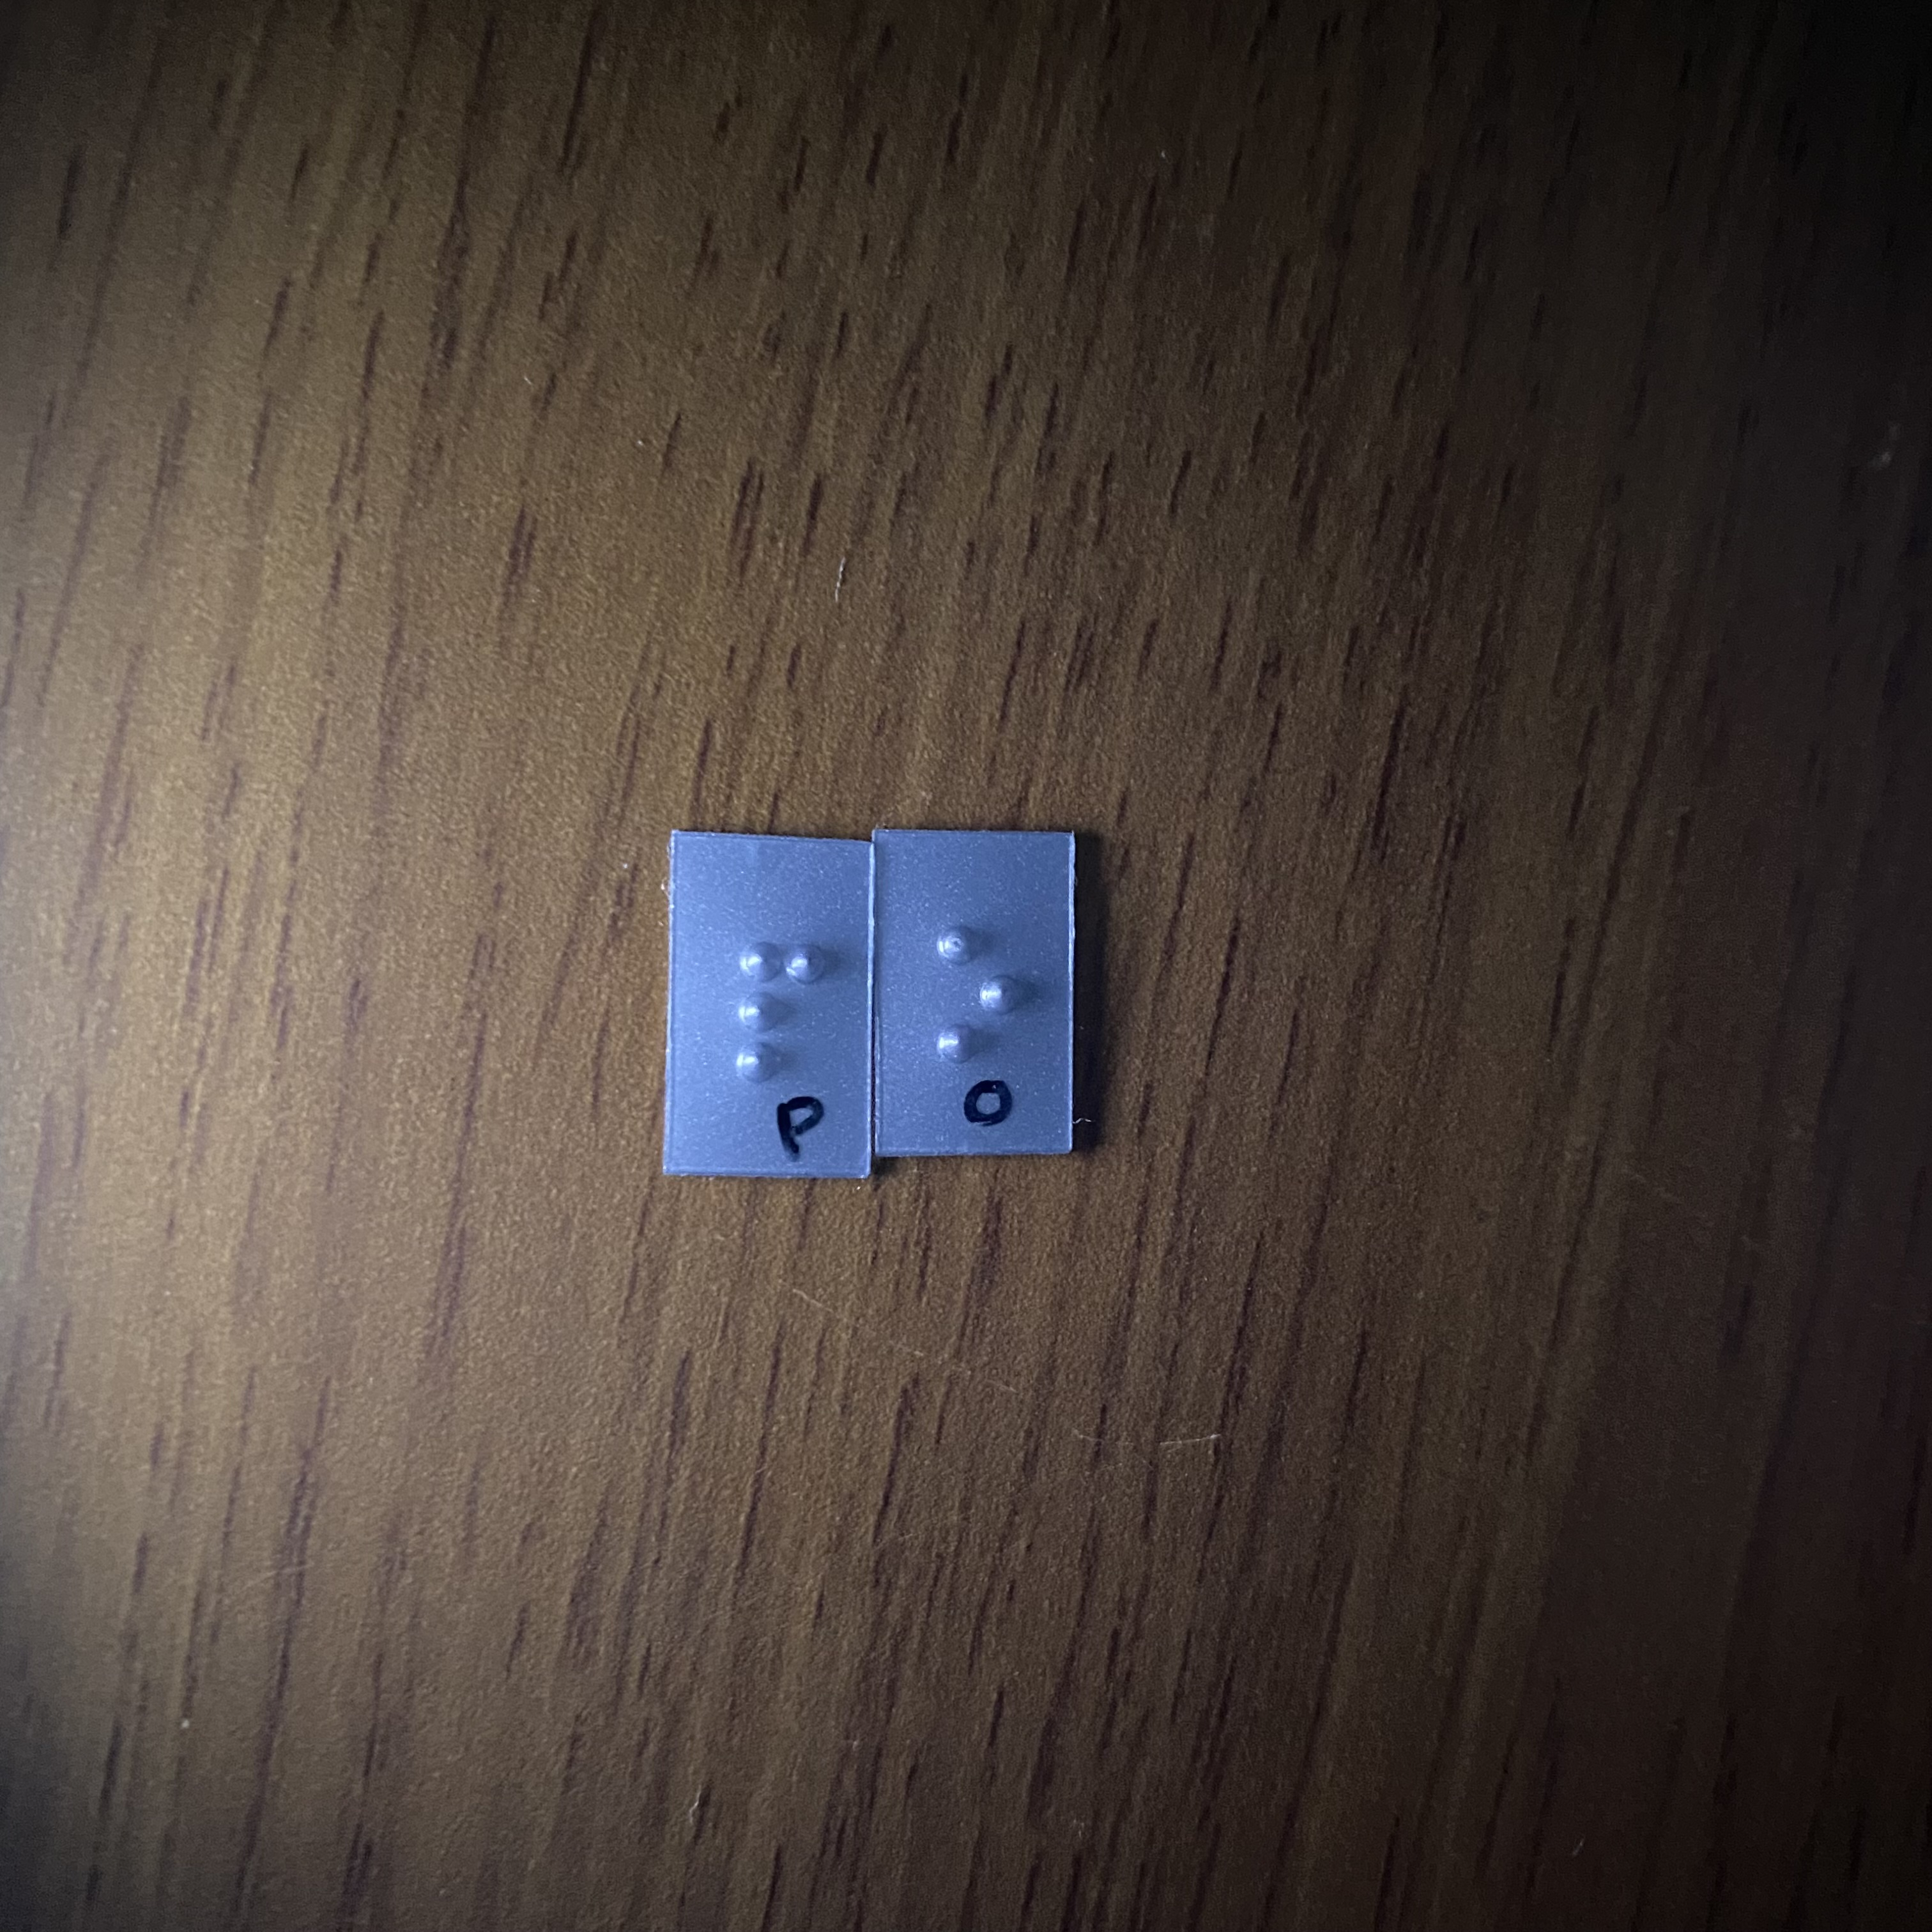o: (928, 910, 1049, 1079)
p: (712, 927, 842, 1092)
